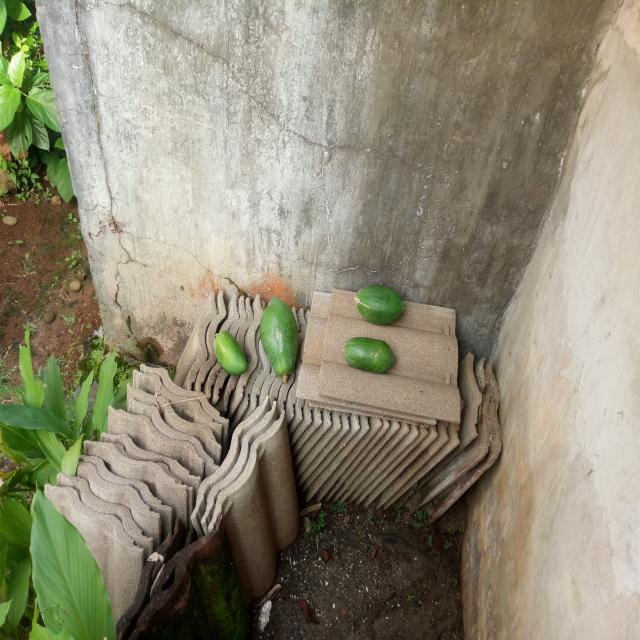Pepaya unrippen: (260, 293, 302, 383), (354, 277, 408, 332), (338, 335, 399, 378), (205, 330, 245, 380)
